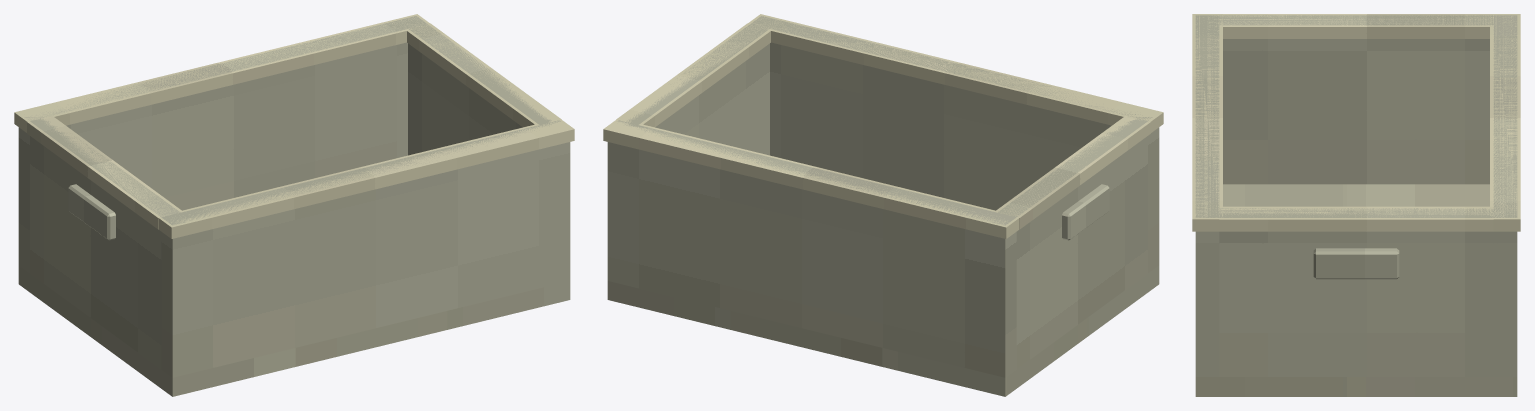
File: vessel-foam.glb
3 views of the same model, side by side, from view 1: azimuth 30°, elevation 25°; view 2: azimuth 150°, elevation 25°; view 3: azimuth 270°, elevation 25° (orthographic). The views are drawn at different scales.
Visible parts, largest first — view 1: vessel-foam/front-complete-wall, vessel-foam/back-complete-wall, vessel-foam/left-complete-wall, vessel-foam/front-top-rim, vessel-foam/back-top-rim, vessel-foam/right-complete-wall, vessel-foam/end-top-rim--1, vessel-foam/drained-floor-panel-0-0, vessel-foam/end-top-rim-1, vessel-foam/drained-floor-panel-2-0, vessel-foam/drained-floor-panel-4-0, vessel-foam/thick-end-grip--1 (+1 smaller); view 2: vessel-foam/back-complete-wall, vessel-foam/front-complete-wall, vessel-foam/left-complete-wall, vessel-foam/front-top-rim, vessel-foam/back-top-rim, vessel-foam/right-complete-wall, vessel-foam/end-top-rim-1, vessel-foam/drained-floor-panel-0-2, vessel-foam/end-top-rim--1, vessel-foam/drained-floor-panel-2-2, vessel-foam/drained-floor-panel-4-2, vessel-foam/thick-end-grip--1 (+1 smaller); view 3: vessel-foam/left-complete-wall, vessel-foam/right-complete-wall, vessel-foam/front-complete-wall, vessel-foam/back-complete-wall, vessel-foam/end-top-rim-1, vessel-foam/end-top-rim--1, vessel-foam/back-top-rim, vessel-foam/front-top-rim, vessel-foam/drained-floor-panel-4-0, vessel-foam/drained-floor-panel-4-2, vessel-foam/drained-floor-panel-0-0, vessel-foam/drained-floor-panel-0-2 (+3 smaller).
Part boxes in pixels (left/top/right/bottom): vessel-foam/front-complete-wall: left=161, top=120, right=570, bottom=377; vessel-foam/back-complete-wall: left=18, top=16, right=426, bottom=272; vessel-foam/left-complete-wall: left=30, top=118, right=180, bottom=369; vessel-foam/front-top-rim: left=157, top=119, right=574, bottom=238; vessel-foam/back-top-rim: left=14, top=14, right=431, bottom=132; vessel-foam/right-complete-wall: left=408, top=24, right=551, bottom=155; vessel-foam/end-top-rim--1: left=27, top=115, right=183, bottom=229; vessel-foam/drained-floor-panel-0-0: left=100, top=325, right=279, bottom=396; vessel-foam/end-top-rim-1: left=406, top=23, right=561, bottom=127; vessel-foam/drained-floor-panel-2-0: left=295, top=311, right=447, bottom=366; vessel-foam/drained-floor-panel-4-0: left=463, top=281, right=570, bottom=325; vessel-foam/thick-end-grip--1: left=68, top=184, right=115, bottom=240; vessel-foam/back-complete-wall: left=607, top=120, right=1016, bottom=377; vessel-foam/front-complete-wall: left=751, top=16, right=1159, bottom=272; vessel-foam/left-complete-wall: left=998, top=119, right=1147, bottom=369; vessel-foam/front-top-rim: left=746, top=14, right=1163, bottom=132; vessel-foam/back-top-rim: left=603, top=119, right=1019, bottom=238; vessel-foam/right-complete-wall: left=626, top=24, right=769, bottom=155; vessel-foam/end-top-rim-1: left=616, top=23, right=771, bottom=127; vessel-foam/drained-floor-panel-0-2: left=898, top=325, right=1077, bottom=396; vessel-foam/end-top-rim--1: left=994, top=115, right=1150, bottom=229; vessel-foam/drained-floor-panel-2-2: left=730, top=311, right=882, bottom=366; vessel-foam/drained-floor-panel-4-2: left=607, top=281, right=714, bottom=325; vessel-foam/thick-end-grip--1: left=1062, top=184, right=1109, bottom=240; vessel-foam/left-complete-wall: left=1219, top=15, right=1493, bottom=184; vessel-foam/right-complete-wall: left=1219, top=208, right=1493, bottom=376; vessel-foam/front-complete-wall: left=1195, top=15, right=1219, bottom=376; vessel-foam/back-complete-wall: left=1493, top=15, right=1517, bottom=376; vessel-foam/end-top-rim-1: left=1219, top=206, right=1493, bottom=231; vessel-foam/end-top-rim--1: left=1219, top=14, right=1492, bottom=38; vessel-foam/back-top-rim: left=1490, top=14, right=1520, bottom=231; vessel-foam/front-top-rim: left=1192, top=14, right=1222, bottom=231; vessel-foam/drained-floor-panel-4-0: left=1195, top=377, right=1346, bottom=396; vessel-foam/drained-floor-panel-4-2: left=1366, top=377, right=1517, bottom=396; vessel-foam/drained-floor-panel-0-0: left=1223, top=184, right=1346, bottom=206; vessel-foam/drained-floor-panel-0-2: left=1366, top=184, right=1489, bottom=206.
Size of the model in its own units: 0.634 by 0.251 by 0.418.
Materials: 2 (2 with a texture image).
